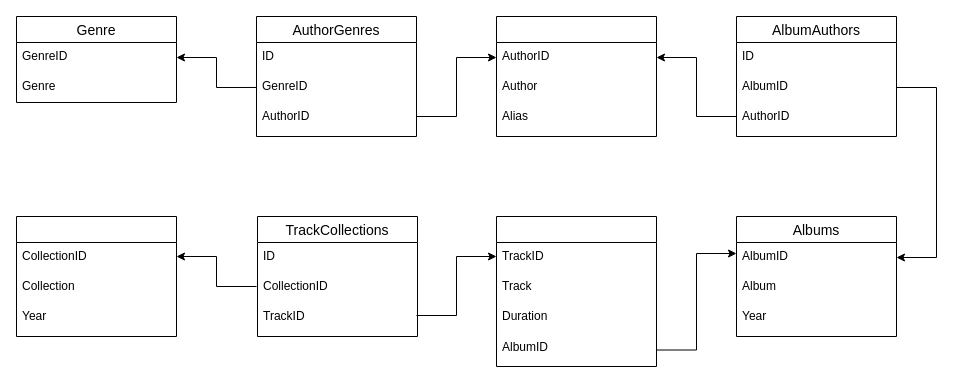
The diagram is 953 pixels wide and 383 high, and some of its shapes have lost their labels. The shapes that lost their labels are listed below. From the top down, each one's box as (x1, y1, x2, y2) in pixels, then its label:
(496, 16, 656, 136): Authors
(16, 216, 176, 336): Collections
(496, 216, 656, 366): Tracks
